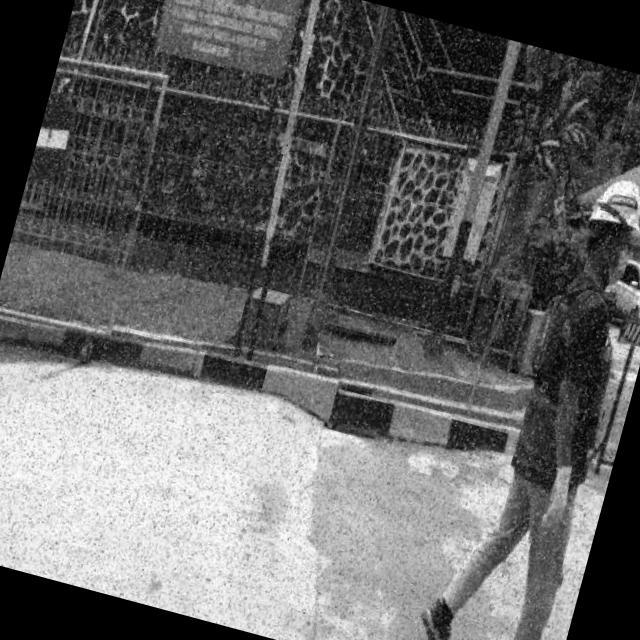hard_hat: (585, 171, 640, 241)
safety_vest: (493, 289, 635, 495)
work_boots: (407, 587, 469, 640)
